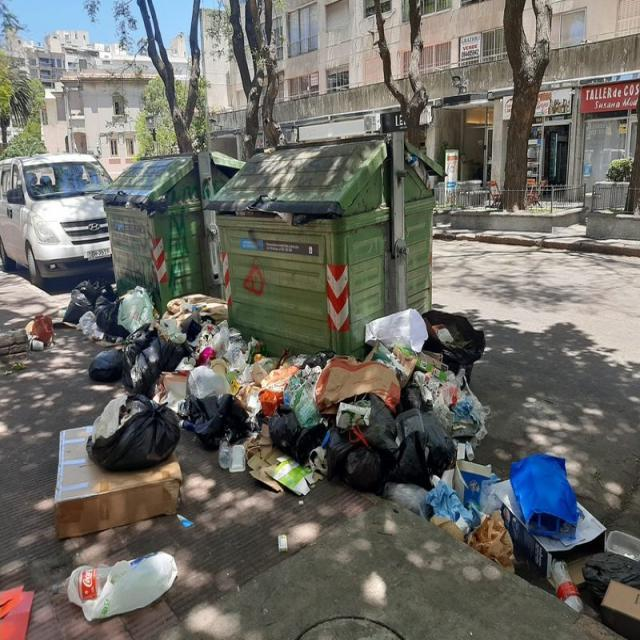garbage: (222, 306, 486, 521), (52, 270, 222, 546), (468, 451, 640, 640), (62, 550, 182, 630), (247, 198, 333, 236), (100, 184, 170, 218), (0, 582, 34, 640), (22, 306, 62, 353), (270, 527, 296, 558)
